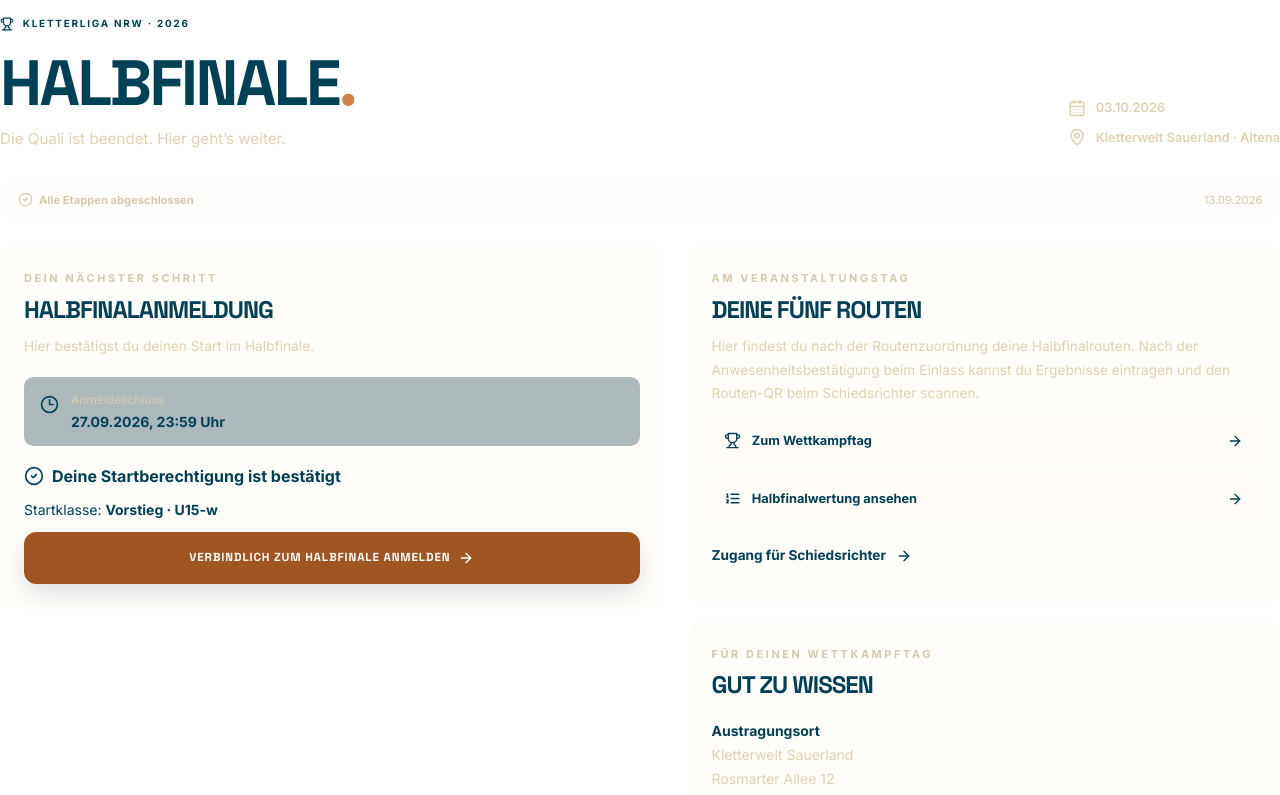
semifinal registration confirmation › keeps errors in the open dialog and supports an explicit retry
The image size is (1280, 795).
Step 1. Click the button "Verbindlich zum Halbfinale anmelden" → (332, 558), box [24,532,640,584]
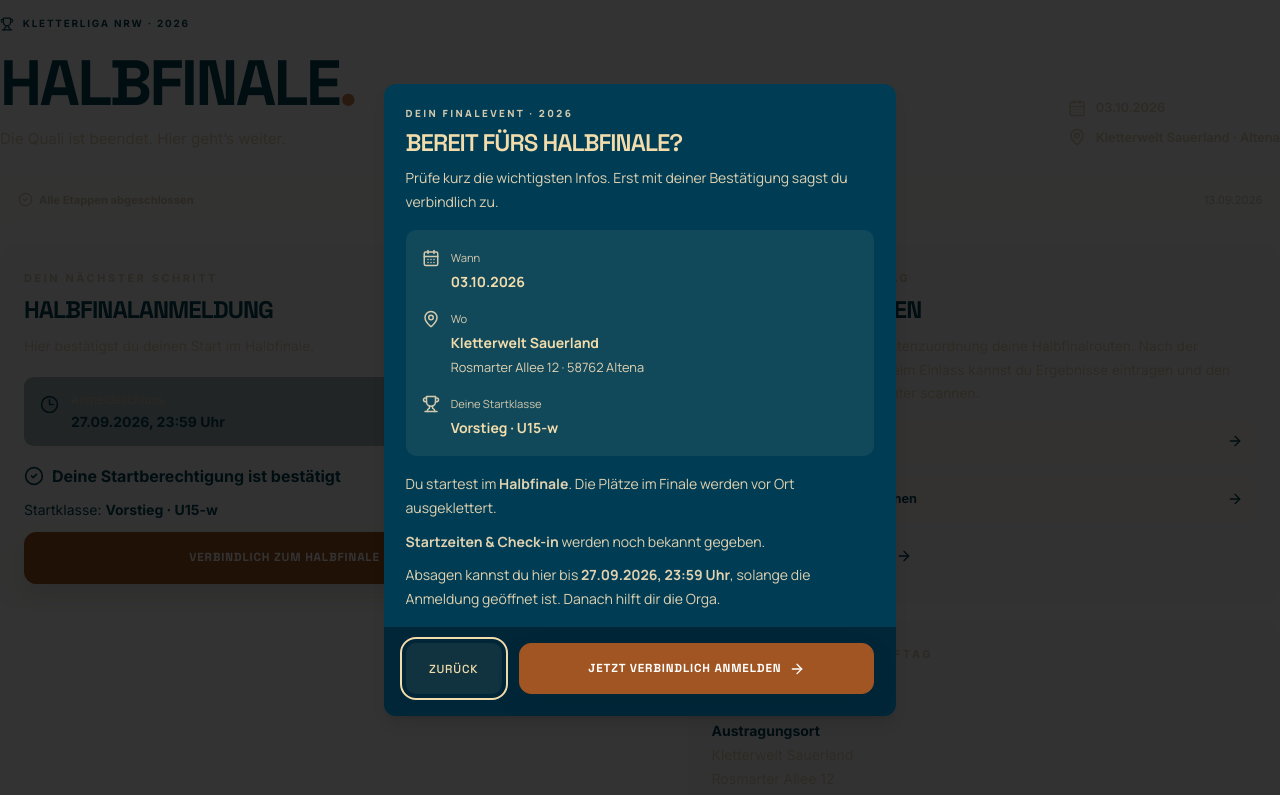
Step 2. Click the button "Jetzt verbindlich anmelden" → (697, 669), box [519,643,874,694]
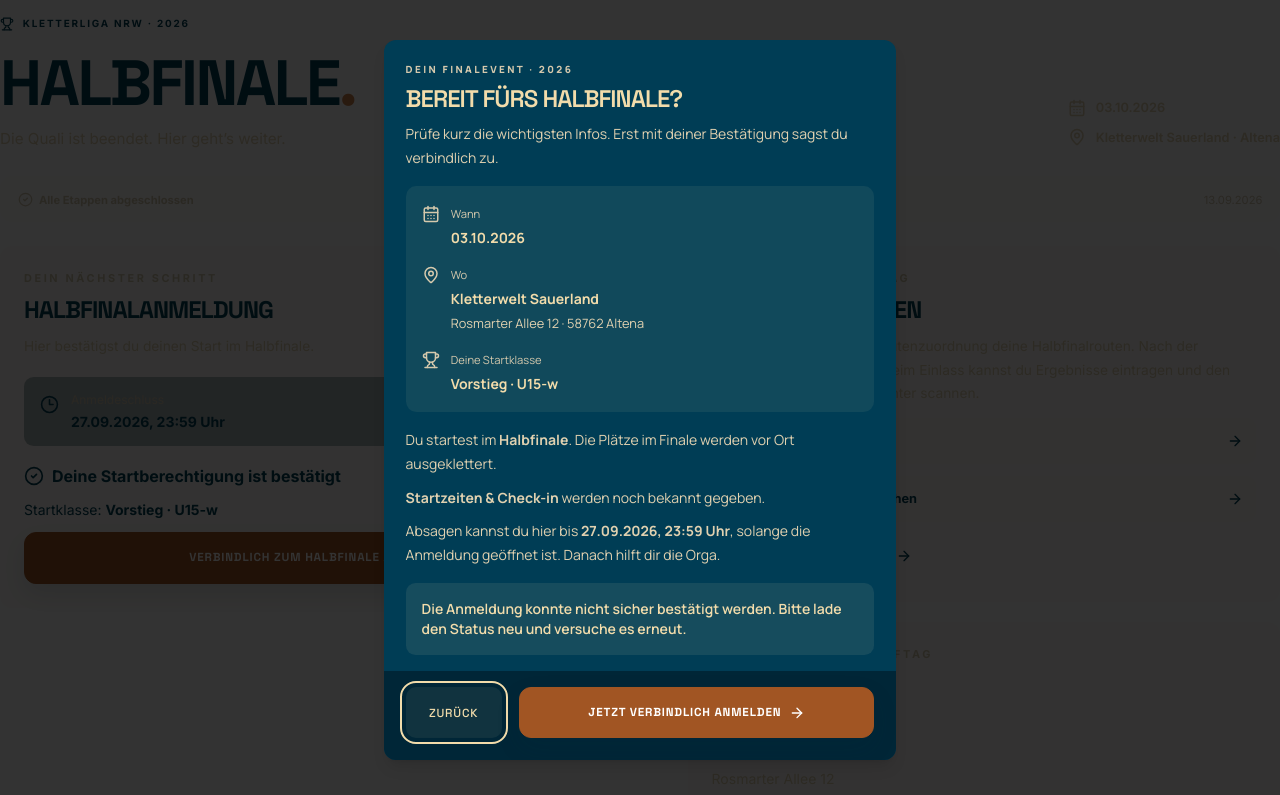
Expected: the text "Du bist angemeldet" is not shown
Expected: the button "Jetzt verbindlich anmelden" is enabled
Expected: the message shows "nicht sicher bestätigt", [422,599,842,638]
Step 3. Click the button "Jetzt verbindlich anmelden" → (697, 713), box [519,687,874,738]
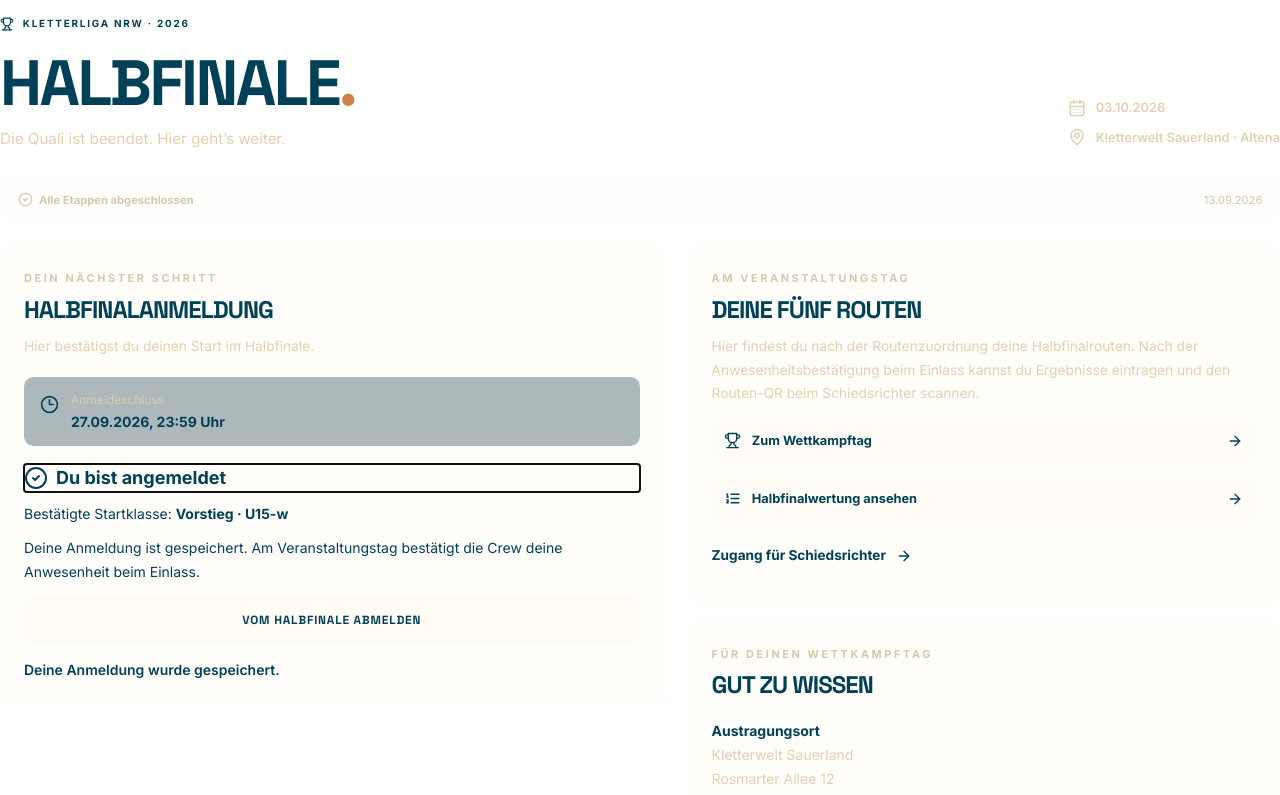
Expected: the text "Du bist angemeldet" is shown, [24,466,226,490]
